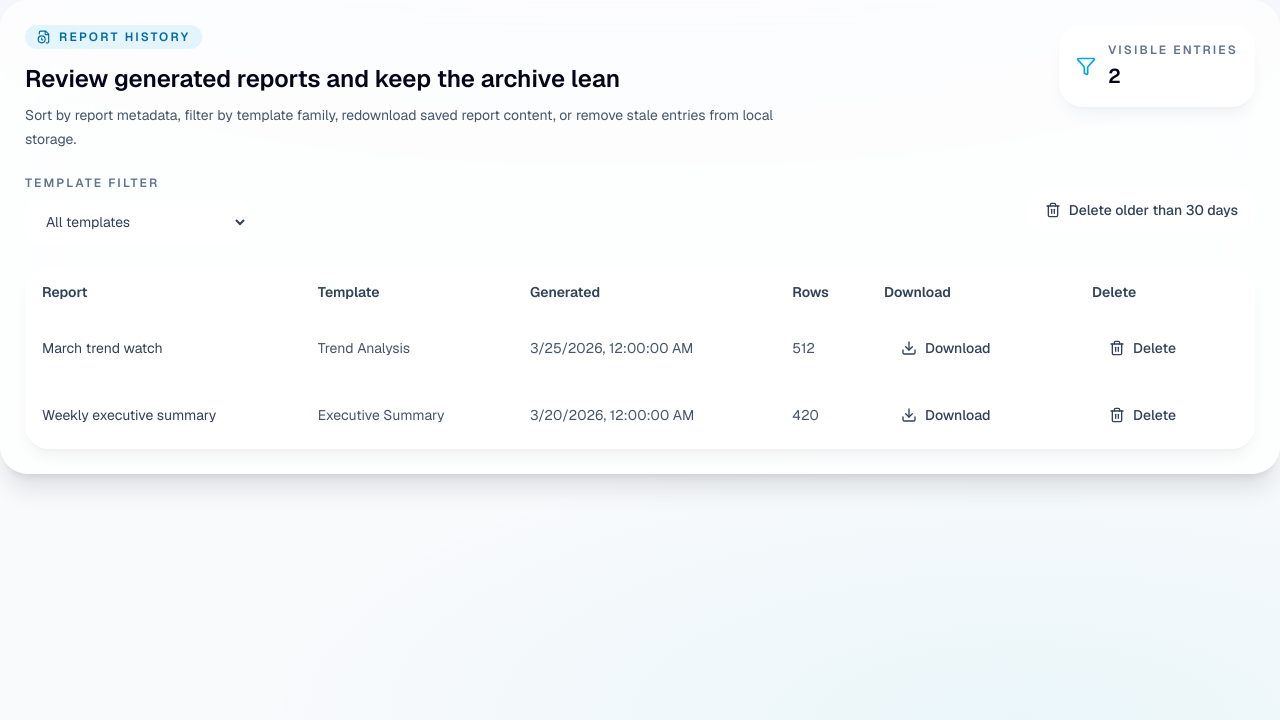
ReportHistory › filters the archive by template family
Select "Trend Analysis" in the dropdown labelled "Template filter": (137, 222) left=25, top=199, right=249, bottom=245
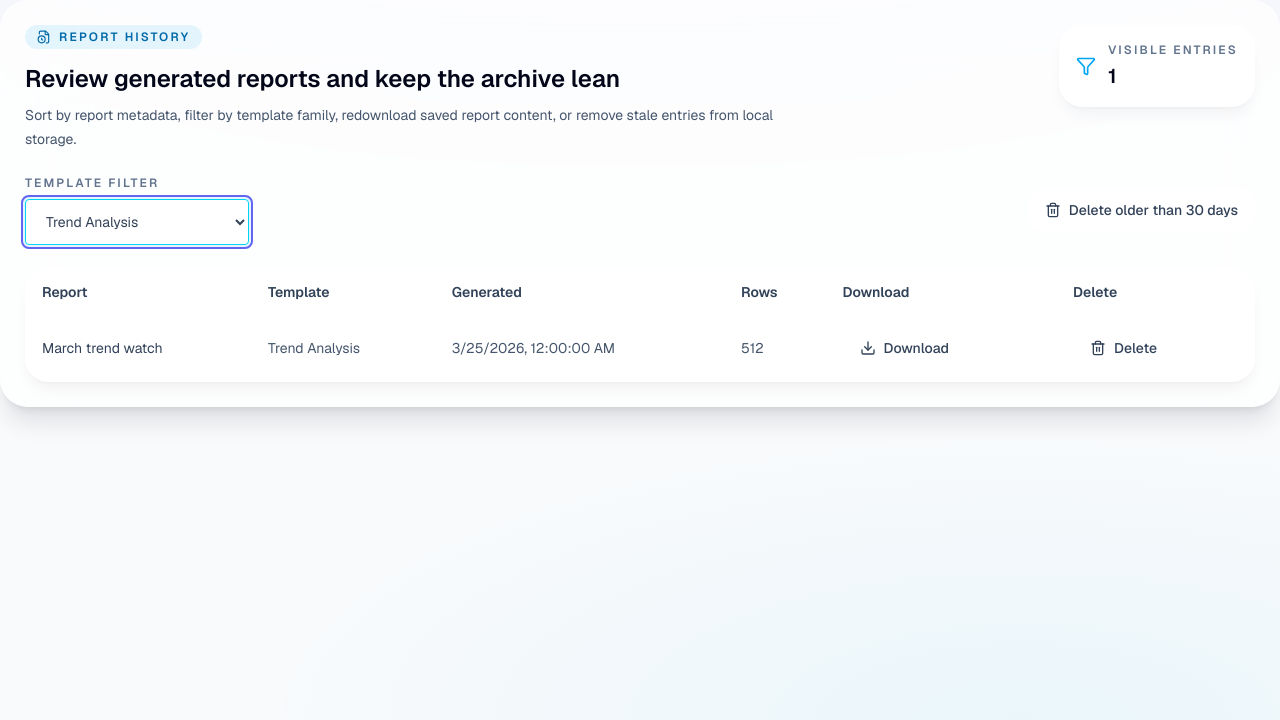
Expected: the text "March trend watch" is shown, left=26, top=314, right=252, bottom=381
Expected: the text "Weekly executive summary" is gone
